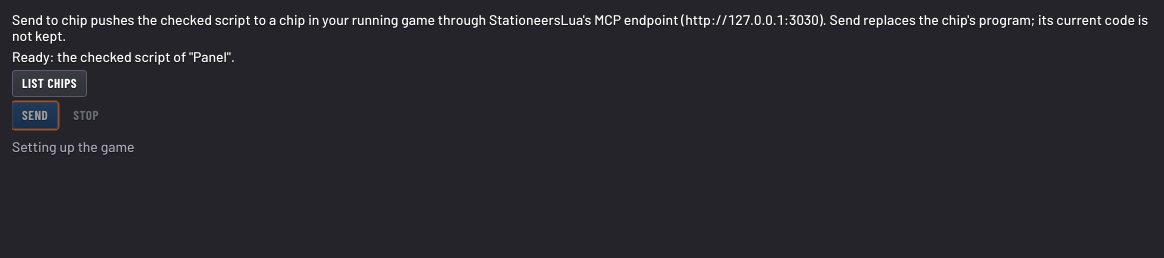
Test case: says how to tell apart chips that show the same name
The width and height of the screenshot is (1164, 258).
Click the button with aria-label "List chips" at (50, 84), box [12,70,87,97]
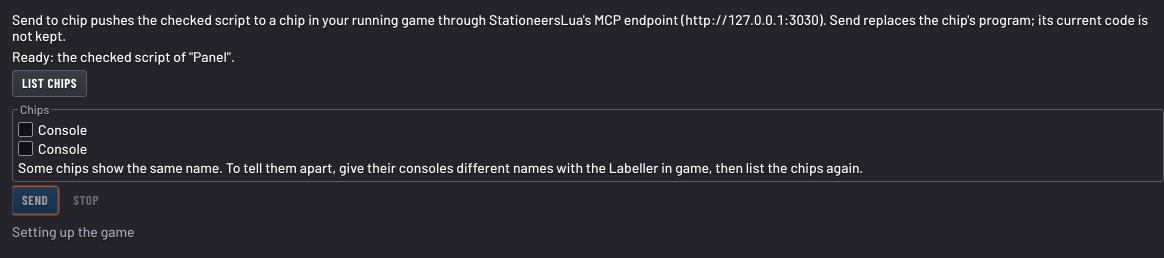
expect the number of radio buttons is 2: met, box [18,122,33,137]; [18,141,33,156]
